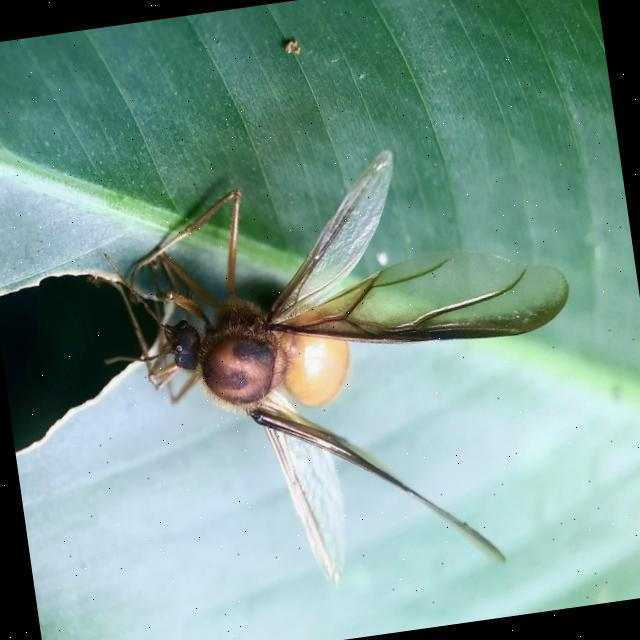Alive-Male-Alate: (79, 127, 606, 619)
